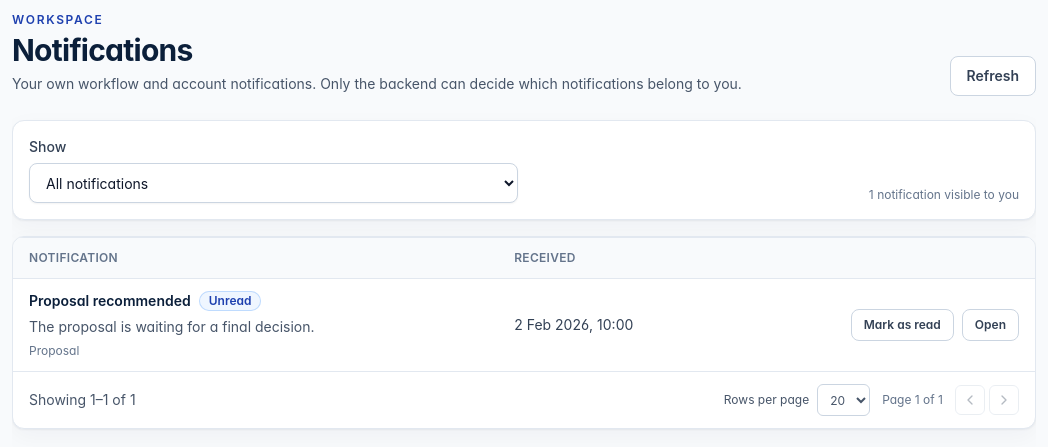
Test: NotificationListPage › marks a notification as read and reloads the list
The image size is (1048, 447).
Check: the text "Proposal recommended" is shown, box [29,291,191,311]
Click the button "Mark as read" at (902, 325), box [851,309,954,341]
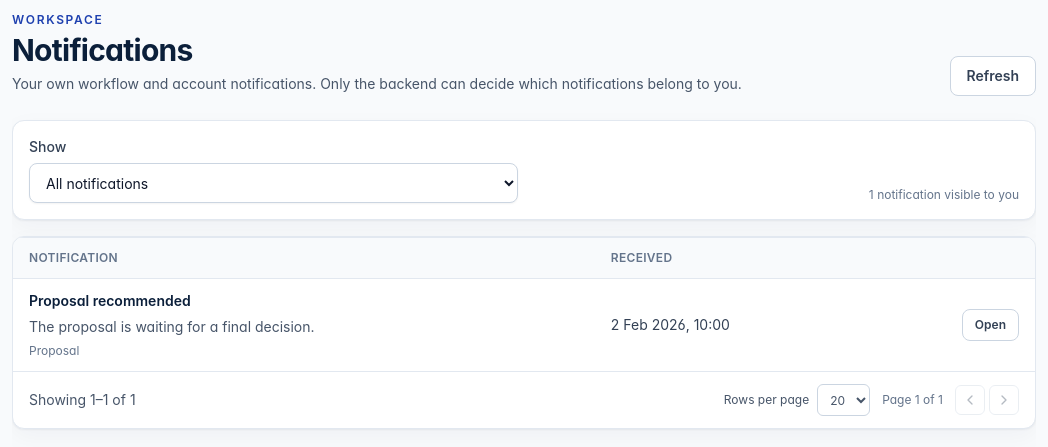
Check: the text "Proposal recommended" is shown, box [29,291,191,311]
Check: the button "Mark as read" is gone
Check: the text "Unread" is gone
